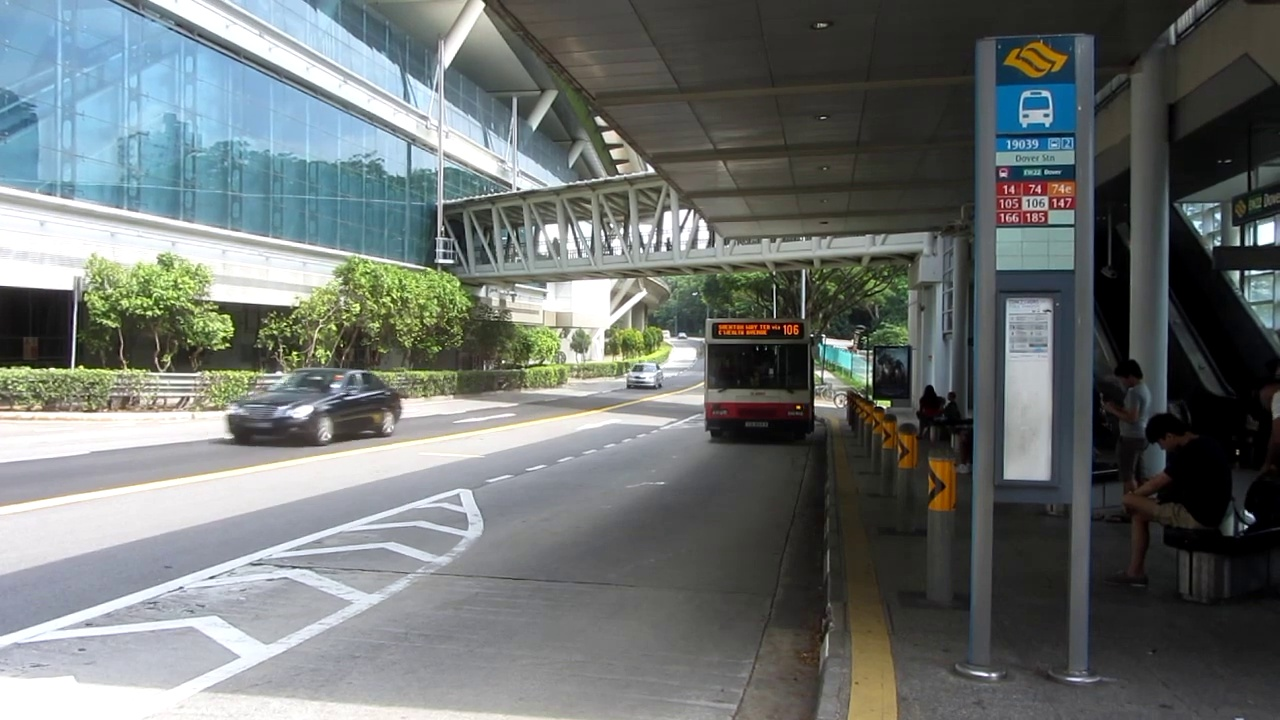bus panel: (711, 322, 805, 340)
